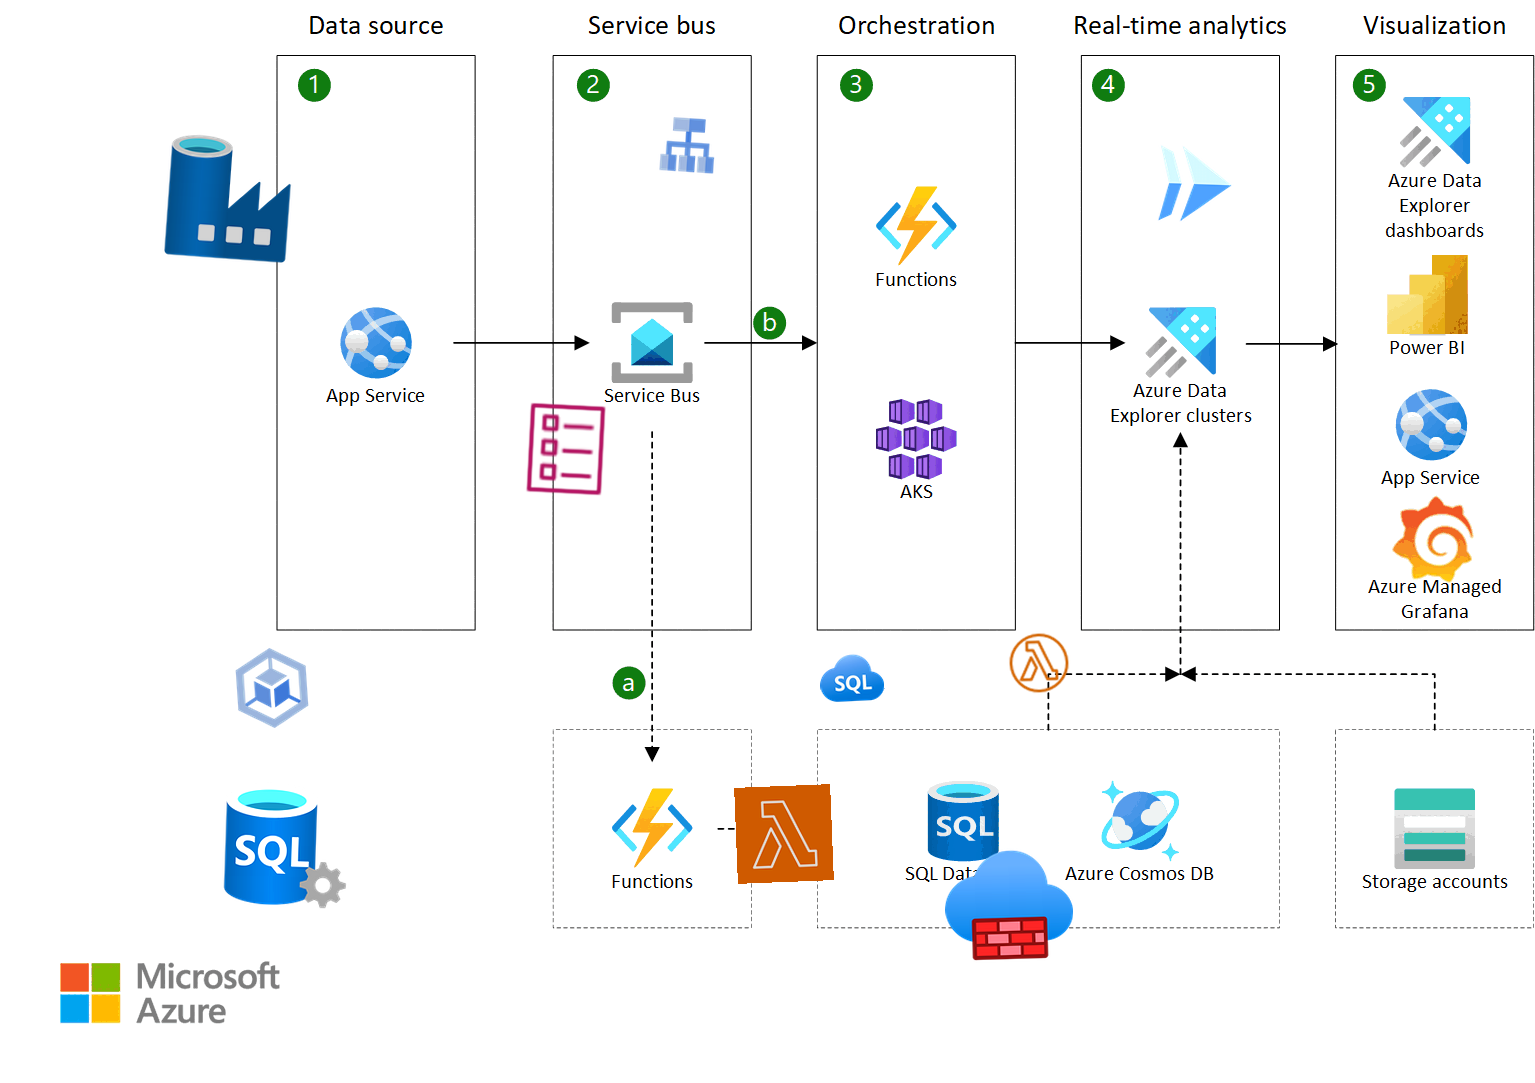aws_cloudformation_template: (514, 399, 616, 500)
aws_lambda: (734, 784, 834, 884)
aws_lambda_lambda_function: (1007, 631, 1072, 696)
azure_data_factories: (161, 129, 298, 267)
azure_firewalls: (943, 839, 1074, 970)
azure_sql: (818, 645, 886, 713)
azure_sql_server: (219, 779, 353, 913)
gcp_cloud_load_balancing: (653, 110, 723, 180)
gcp_cloud_run: (1144, 134, 1244, 234)
gcp_google_kubernetes_engine: (220, 636, 325, 740)
